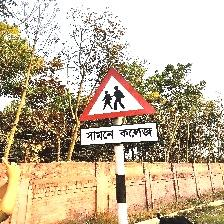College-in-front: (74, 72, 206, 164)
